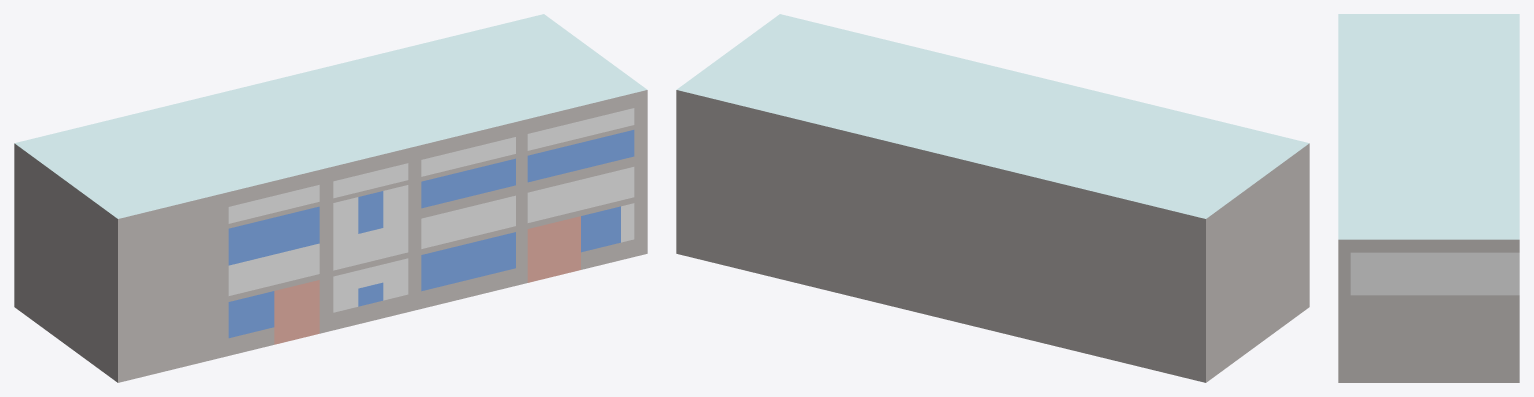
Rendered from senkou.glb.
The picture shows the model from 3 angles, left to right: view 1: azimuth 30°, elevation 25°; view 2: azimuth 150°, elevation 25°; view 3: azimuth 270°, elevation 25°; orthographic projection. The views are drawn at different scales.
Visible parts, largest first — view 1: 立方体.027; view 2: 立方体.027; view 3: 立方体.027.
Part boxes in pixels (left/top/right/bottom): 立方体.027: left=14, top=14, right=647, bottom=382; 立方体.027: left=676, top=14, right=1309, bottom=382; 立方体.027: left=1338, top=14, right=1519, bottom=382.
Size of the model in its own units: 9.04 by 2.67 by 3.06.
Materials: 1 (1 with a texture image).
